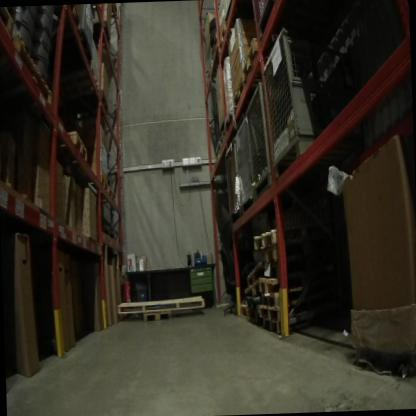pallet: (15, 21, 56, 105), (255, 281, 323, 310), (113, 296, 206, 316), (257, 300, 310, 330), (49, 130, 89, 166), (257, 316, 318, 338), (252, 224, 298, 250), (47, 10, 86, 39), (243, 34, 264, 85), (240, 253, 268, 289), (230, 71, 252, 112), (250, 240, 294, 260), (256, 275, 296, 295), (136, 307, 173, 324), (240, 302, 262, 330), (218, 22, 236, 56), (0, 9, 19, 39), (84, 177, 112, 193), (92, 189, 120, 202), (242, 275, 259, 295), (246, 291, 262, 311), (224, 105, 236, 130)
stillage: (265, 32, 331, 180), (246, 62, 275, 213), (234, 111, 261, 210), (220, 134, 242, 229), (250, 0, 283, 37)
